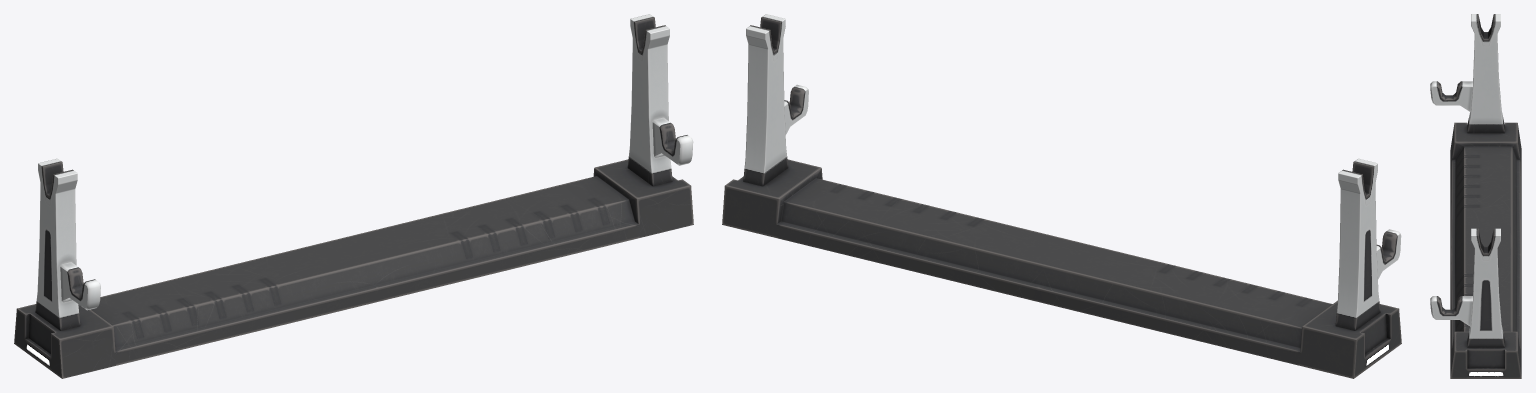
The model's file is MeleeKatana01_4.FBX.
3 renders of one model, left to right at view 1: azimuth 30°, elevation 25°; view 2: azimuth 150°, elevation 25°; view 3: azimuth 270°, elevation 25°, orthographic. The views are drawn at different scales.
Visible parts, largest first — view 1: MeleeKatana01_4; view 2: MeleeKatana01_4; view 3: MeleeKatana01_4.
Part boxes in pixels (box(x1,y1,x2,y2)): MeleeKatana01_4: box(14, 14, 693, 378); MeleeKatana01_4: box(722, 14, 1401, 378); MeleeKatana01_4: box(1430, 14, 1521, 378).
Size of what is drawn, in the model's own units: 0.8103 by 0.2308 by 0.1371.
